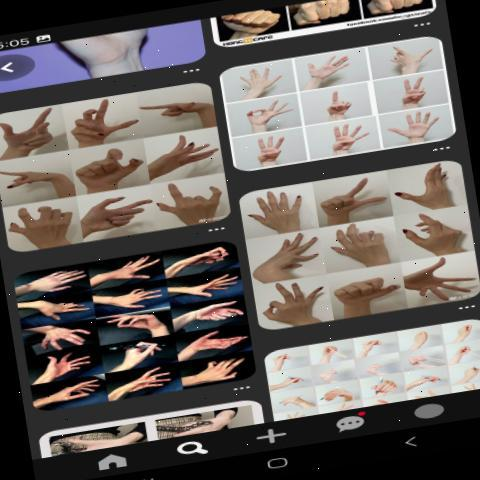Hands: (149, 136, 235, 180), (253, 232, 322, 284), (75, 99, 140, 147), (3, 207, 81, 241), (246, 191, 312, 230), (300, 50, 364, 90), (84, 196, 156, 230), (36, 372, 111, 403), (32, 352, 108, 382), (336, 226, 404, 258), (179, 329, 250, 358), (180, 277, 251, 306), (384, 110, 446, 143), (114, 369, 180, 398), (16, 271, 90, 296), (21, 297, 92, 322), (101, 288, 177, 310), (96, 259, 168, 282), (318, 122, 378, 141)
